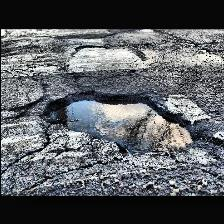pothole: (41, 88, 196, 155), (73, 42, 107, 50)
